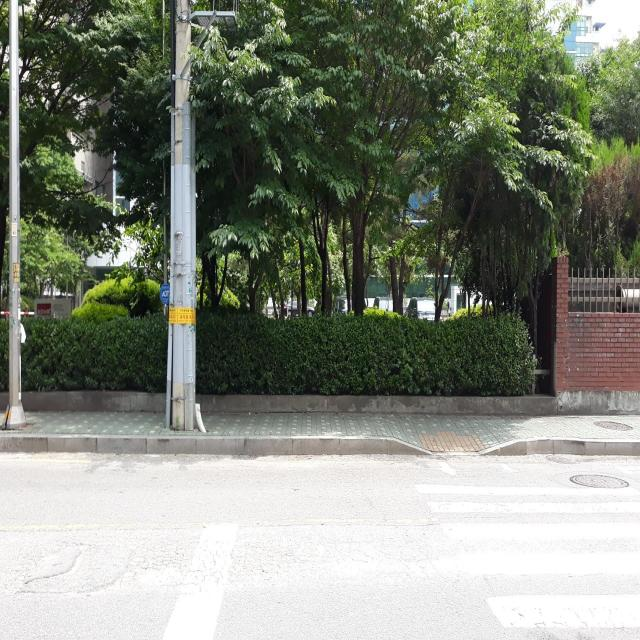횡단보도: (413, 457, 640, 640)
